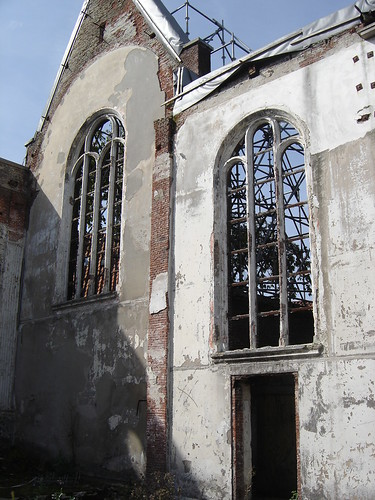building: (25, 1, 375, 493)
